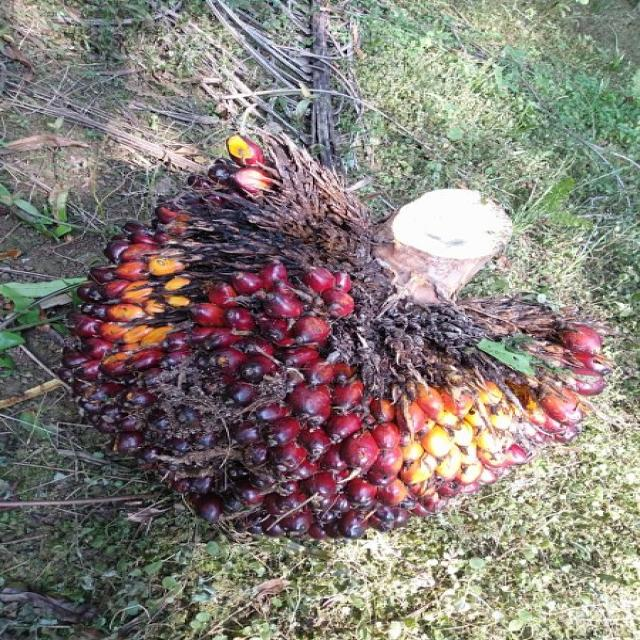fraksi 1: (59, 84, 636, 558)
